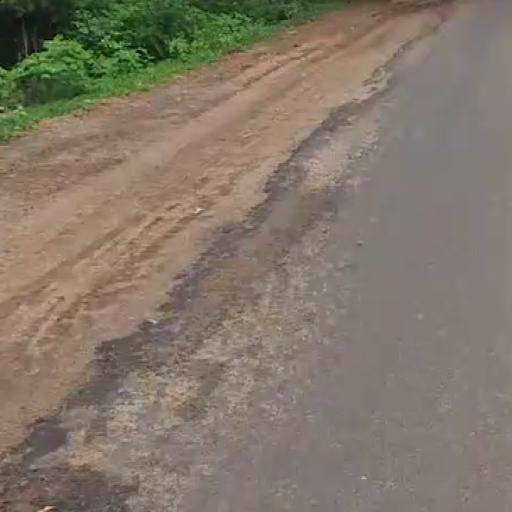edge_damage: (10, 56, 441, 481)
